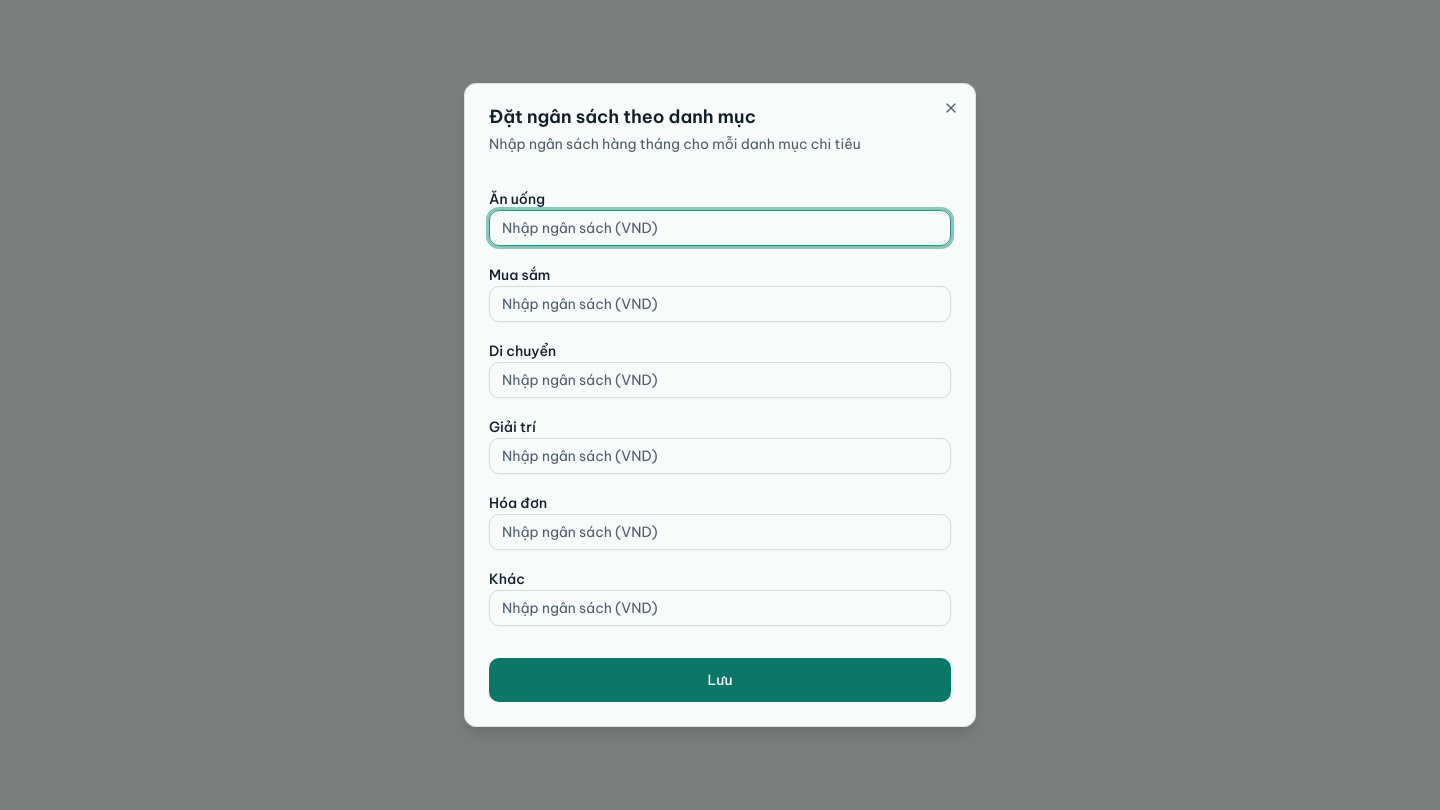
Test: BudgetSettings Dialog Component › "1.5" không âm thầm thành 15đ: báo lỗi, không lưu ô nào, dialog vẫn mở
In the field labelled "Ăn uống": (720, 228) [489,210,951,246], type "1.5"
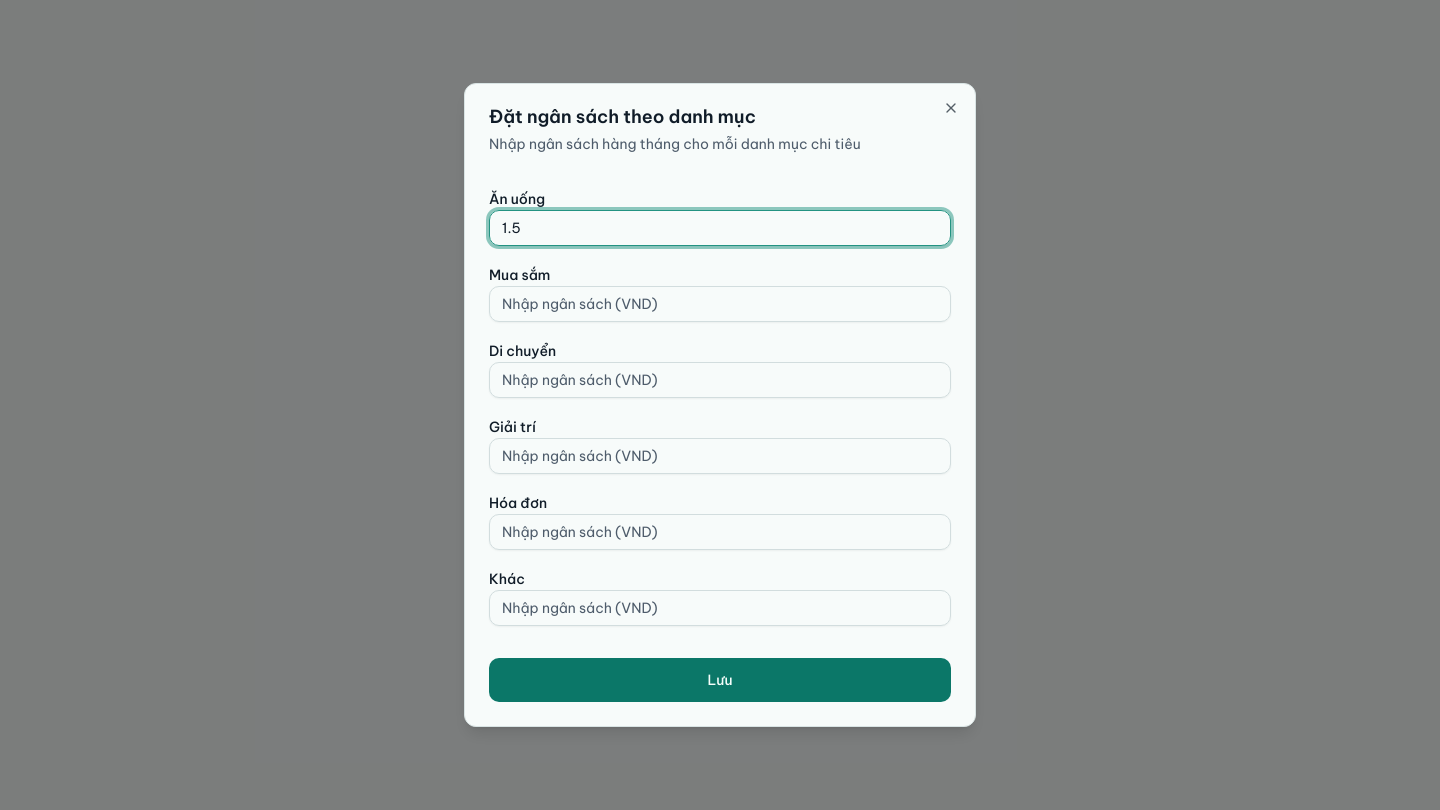
In the field labelled "Mua sắm": (720, 304) [489,286,951,322], type "200.000"
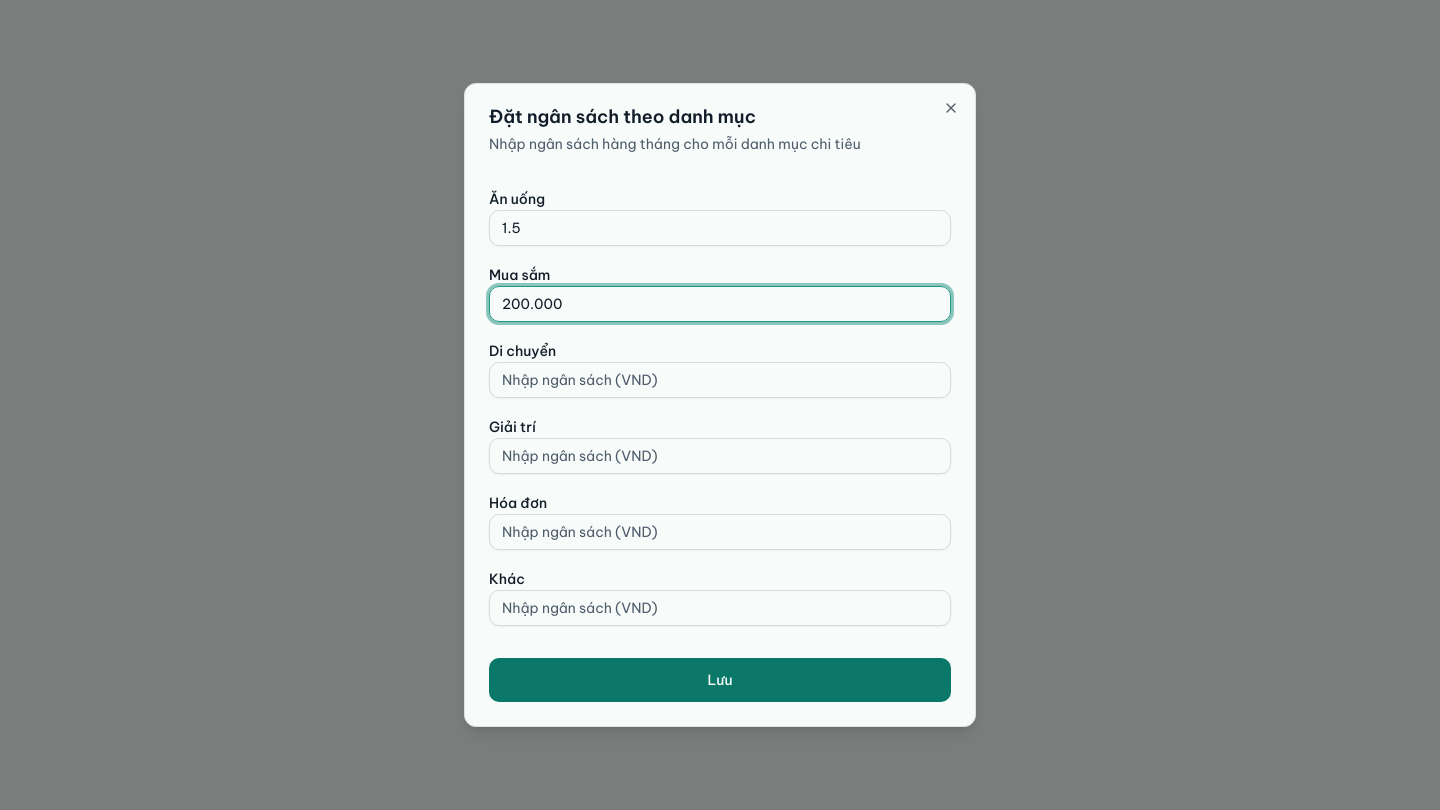
Click the button "Lưu": (720, 680) [489,658,951,702]
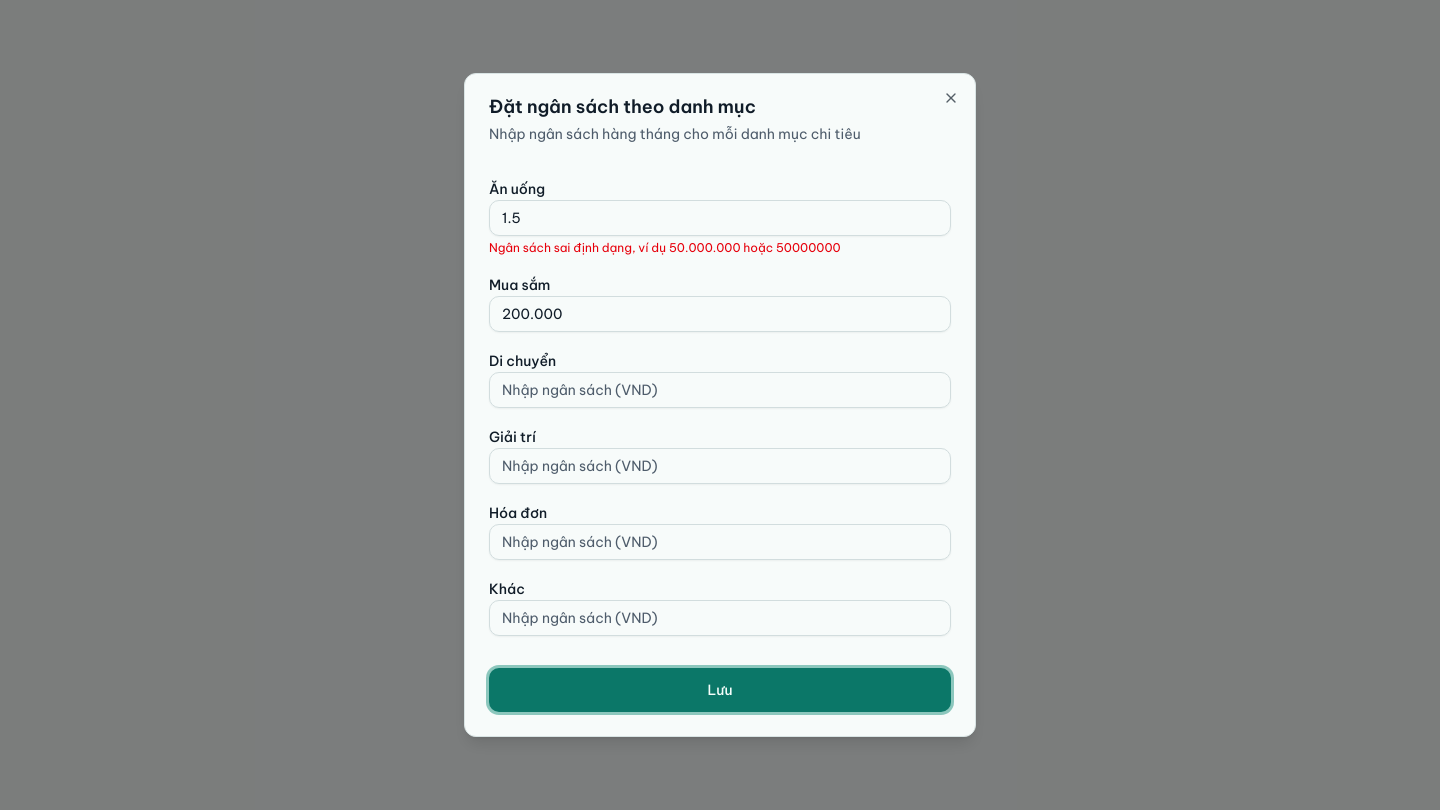
Result: the message shows "Ngân sách sai định dạng" at [489,240,841,255]
